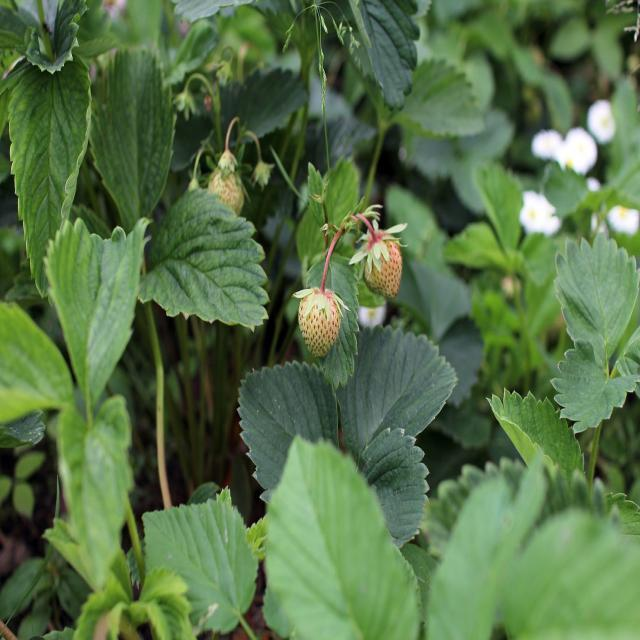strawberry: (297, 290, 342, 360), (363, 232, 403, 300), (208, 166, 245, 222)
